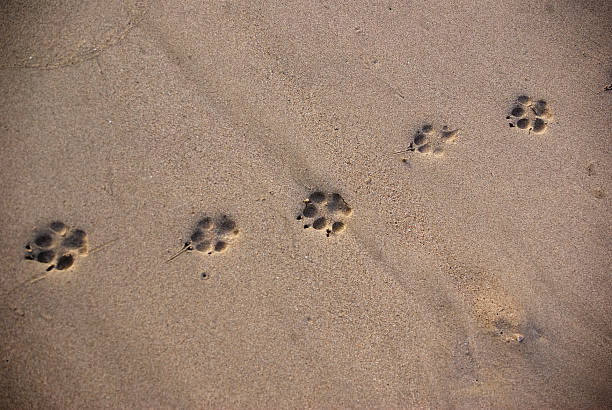animal_foot_print: (168, 215, 239, 261), (25, 221, 87, 270), (296, 191, 351, 236), (397, 124, 458, 155), (506, 95, 552, 133)
